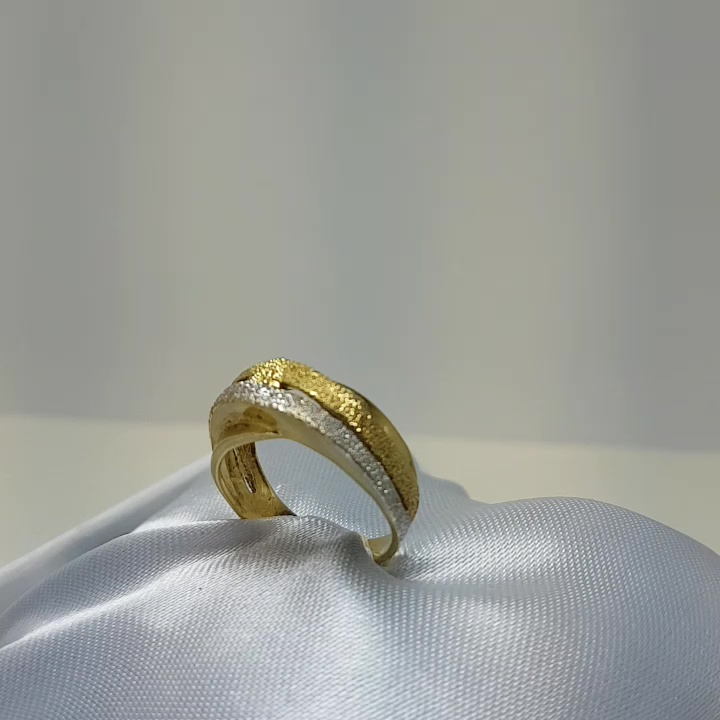Ring 5: (166, 340, 423, 602)
